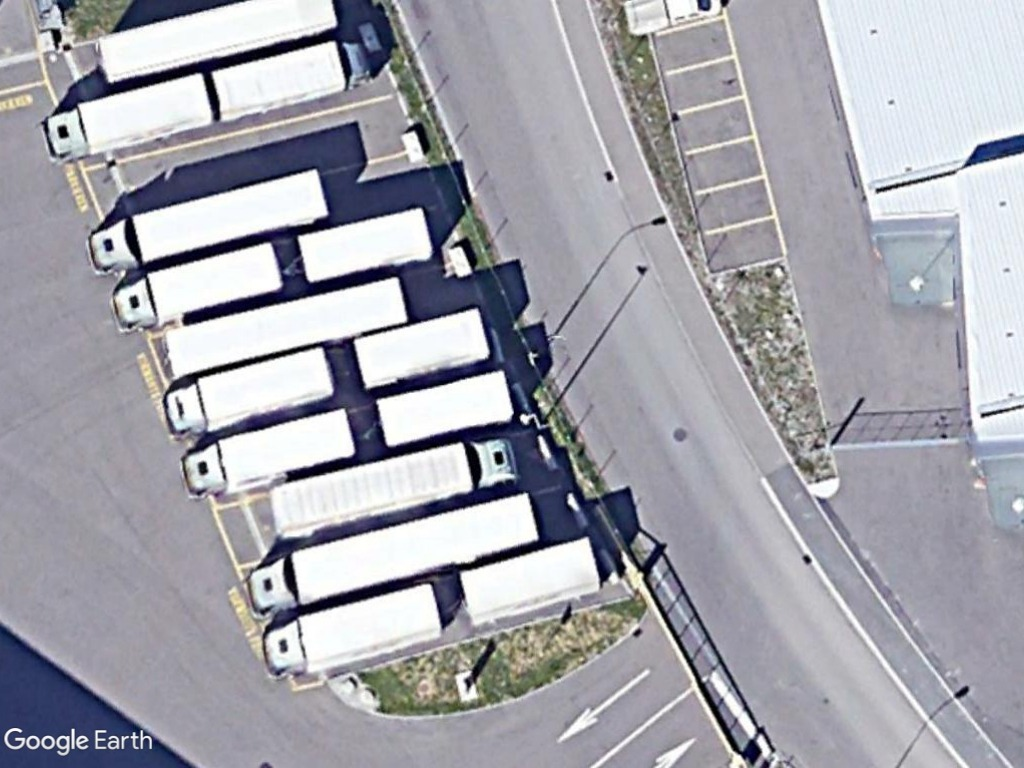truck: (249, 479, 547, 618), (264, 432, 527, 546), (84, 165, 334, 282), (152, 340, 341, 449), (259, 577, 452, 681), (174, 402, 361, 507), (106, 236, 292, 336), (32, 67, 220, 164), (207, 32, 376, 126)
